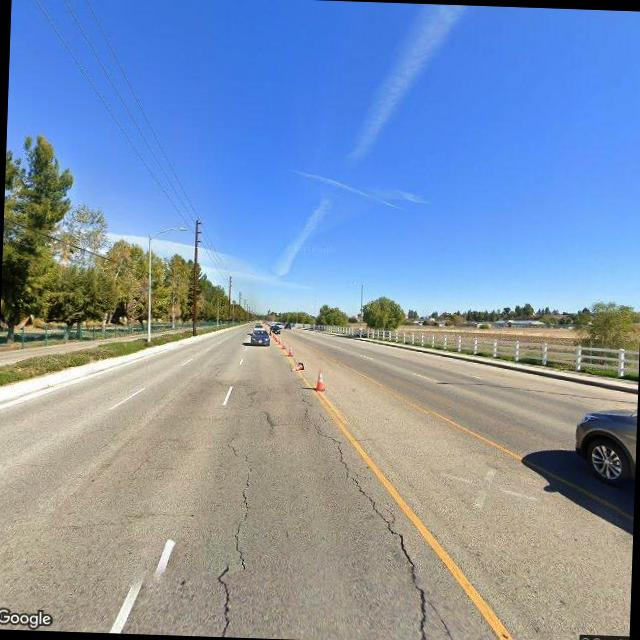pothole: (300, 405, 468, 640), (204, 423, 263, 637), (259, 406, 276, 440)
